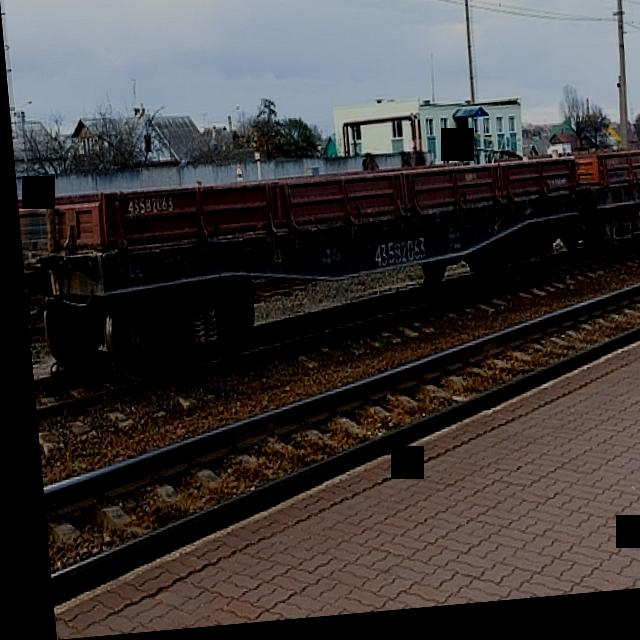flatcar: (16, 196, 587, 399), (577, 186, 640, 268)
